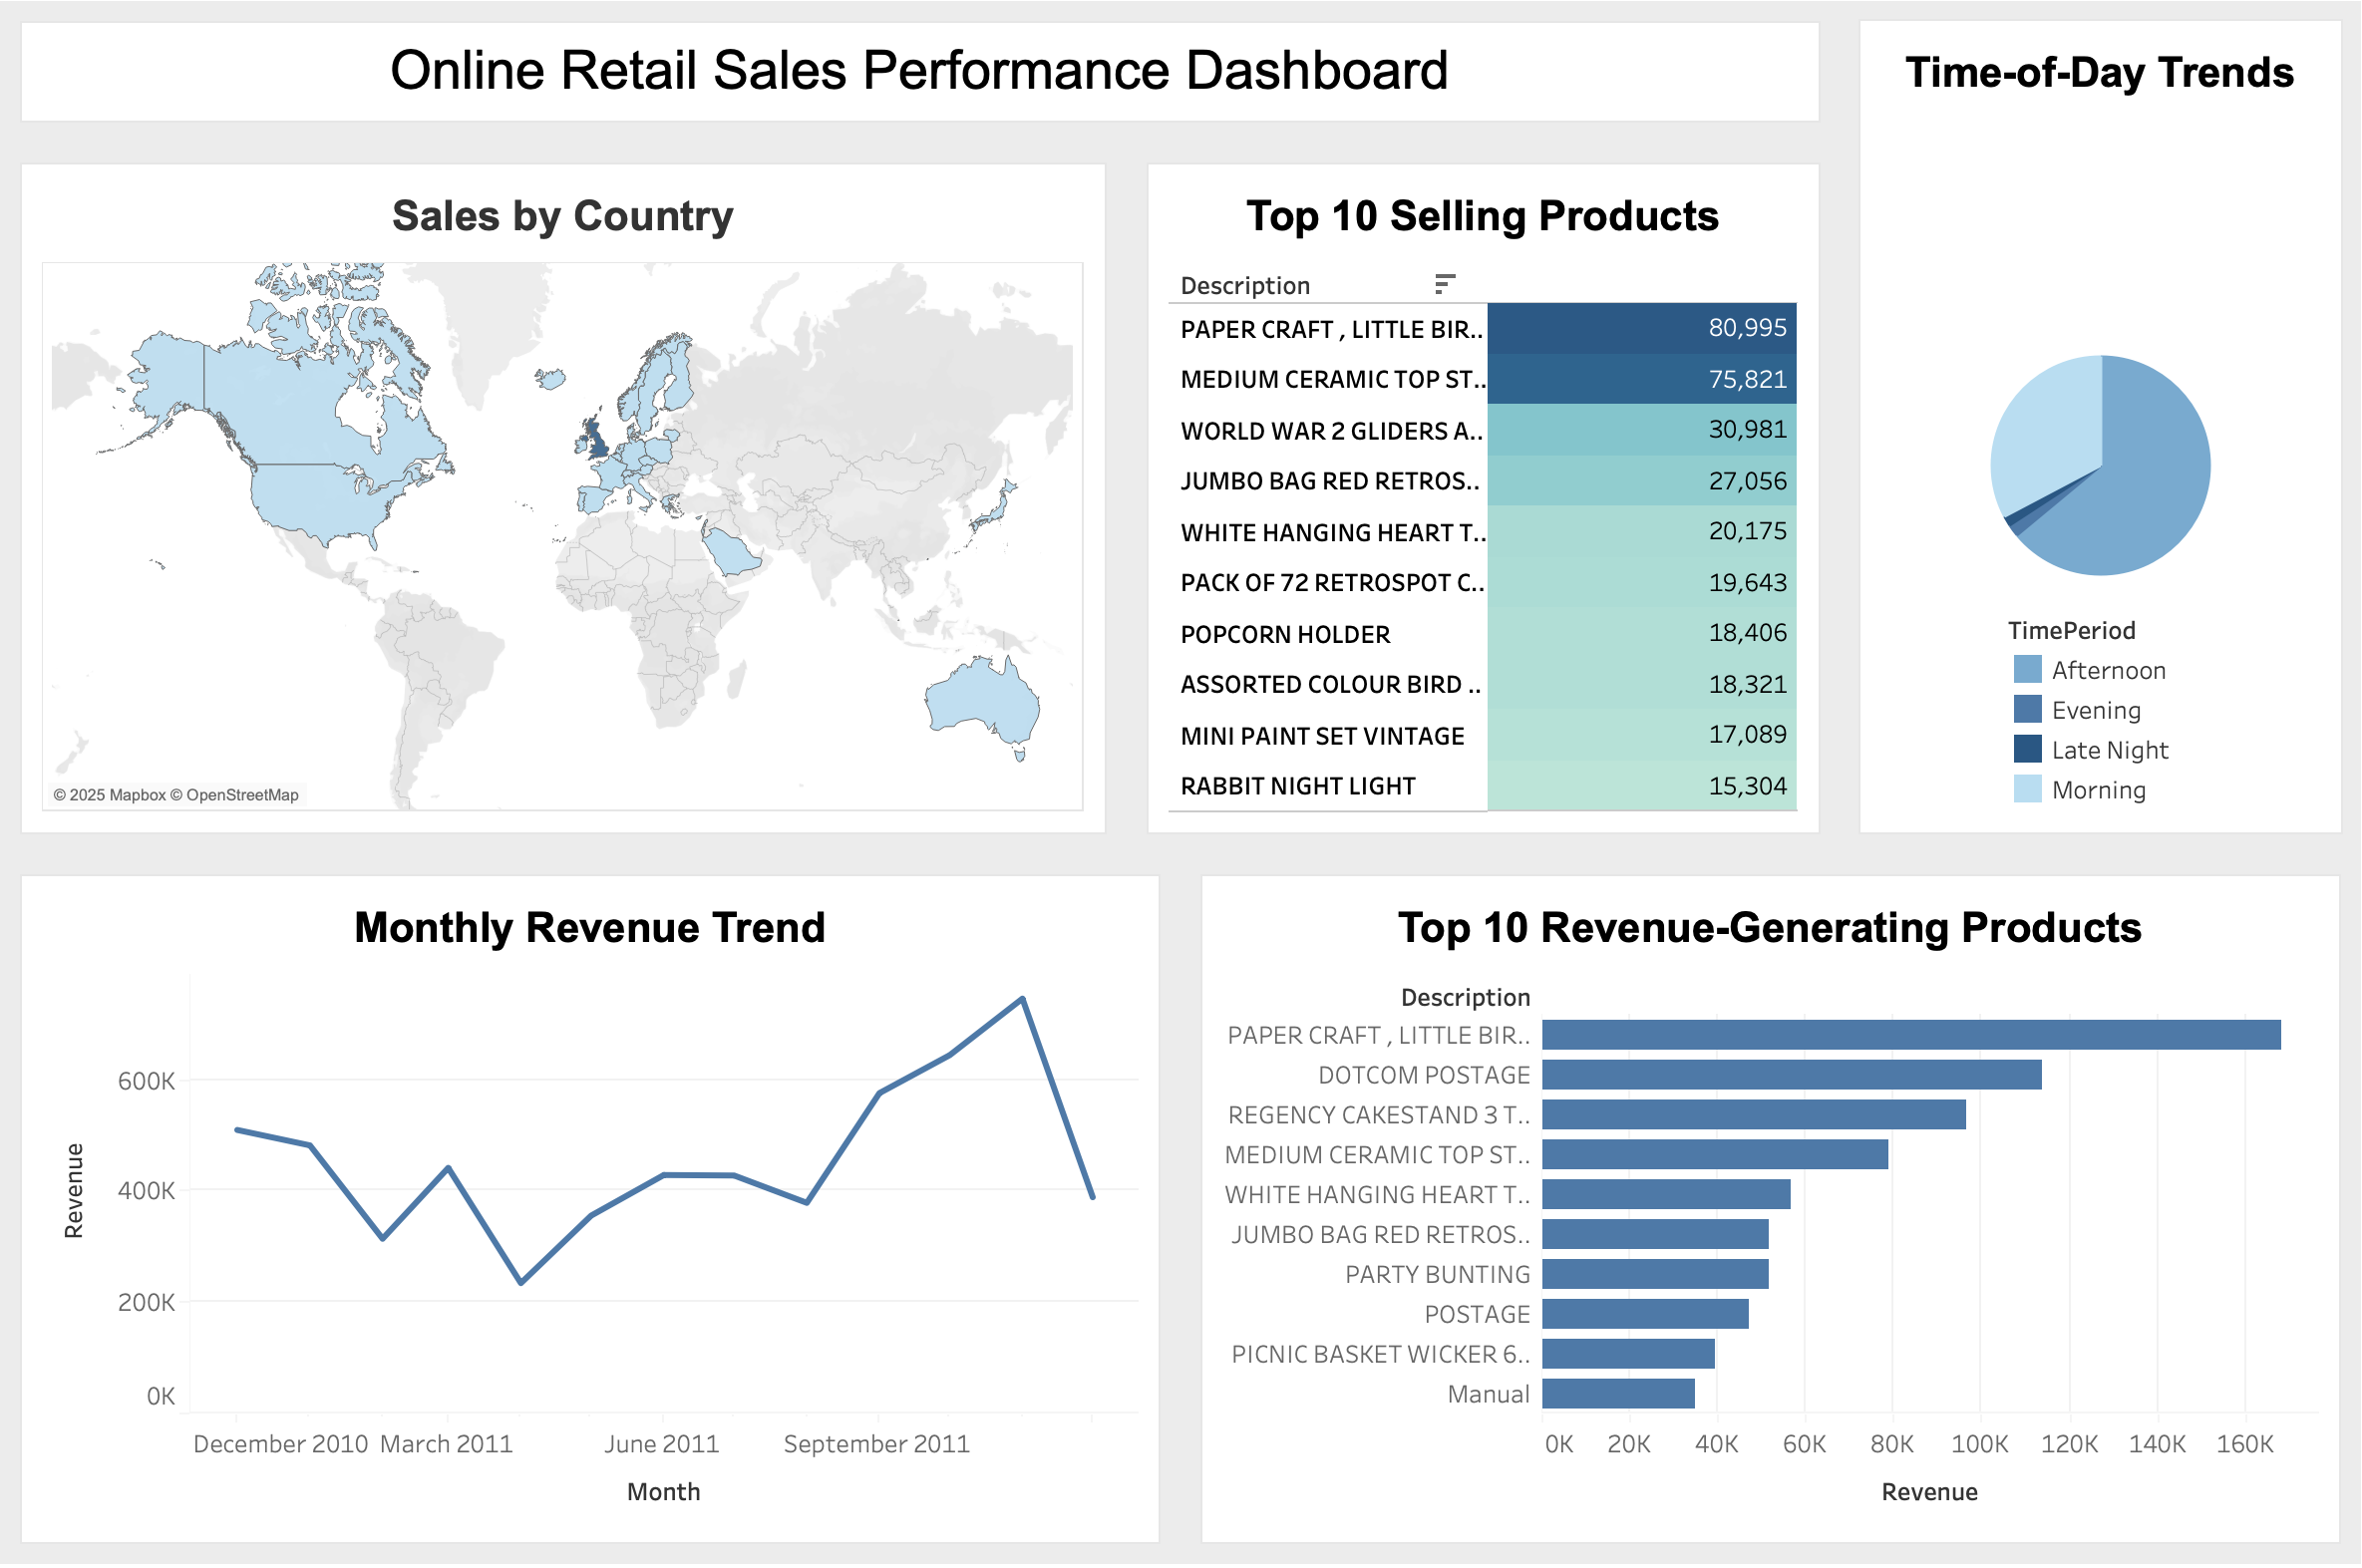

The page's visual inventory and layout, read from the dashboard file:
{"tool":"tableau","page":{"name":"Dashboard 2","canvas":[1366,768],"ordinal":1},"visuals":[{"type":"worksheet","title":"Graph 1","mark":"Automatic","rows":["Quantity"],"cols":["Description"],"box":[8,8,1190,329]},{"type":"legend","title":"Graph 5","param":"[federated.1fv7cwb0qqa88017s4snn1pej7na].[ctd:InvoiceNo:qk]","box":[1198,8,160,46]},{"type":"legend","title":"Graph 5","param":"[federated.1fv7cwb0qqa88017s4snn1pej7na].[none:Calculation_5675309622487461888:n","box":[1198,54,160,106]},{"type":"legend","title":"Graph 4","param":"[federated.1fv7cwb0qqa88017s4snn1pej7na].[ctd:InvoiceNo:qk]","box":[1198,160,160,65]},{"type":"worksheet","title":"Graph 2","mark":"Automatic","rows":["Calculation_5675309622489821186"],"cols":["InvoiceDate"],"box":[8,337,1190,82.3]},{"type":"worksheet","title":"Graph 3","mark":"Automatic","rows":["Description"],"cols":["Calculation_5675309622489821186"],"box":[8,419.2,1190,172.3]},{"type":"worksheet","title":"Graph 4","mark":"Automatic","box":[8,591.6,1190,82.3]},{"type":"worksheet","title":"Graph 5","mark":"Pie","box":[8,673.8,1190,86.2]}]}

Visuals, with their boxes on the page's 1366x768 design canvas (x1, y1, x2, y2). These are canvas units, not pixel positions in the 2362x1568 screenshot, which may show the page scaled, cropped or inside an application window:
"Graph 1" worksheet: box=[8, 8, 1198, 337]
"Graph 5" legend: box=[1198, 8, 1358, 54]
"Graph 5" legend: box=[1198, 54, 1358, 160]
"Graph 4" legend: box=[1198, 160, 1358, 225]
"Graph 2" worksheet: box=[8, 337, 1198, 419]
"Graph 3" worksheet: box=[8, 419, 1198, 592]
"Graph 4" worksheet: box=[8, 592, 1198, 674]
"Graph 5" worksheet (Pie marks): box=[8, 674, 1198, 760]
